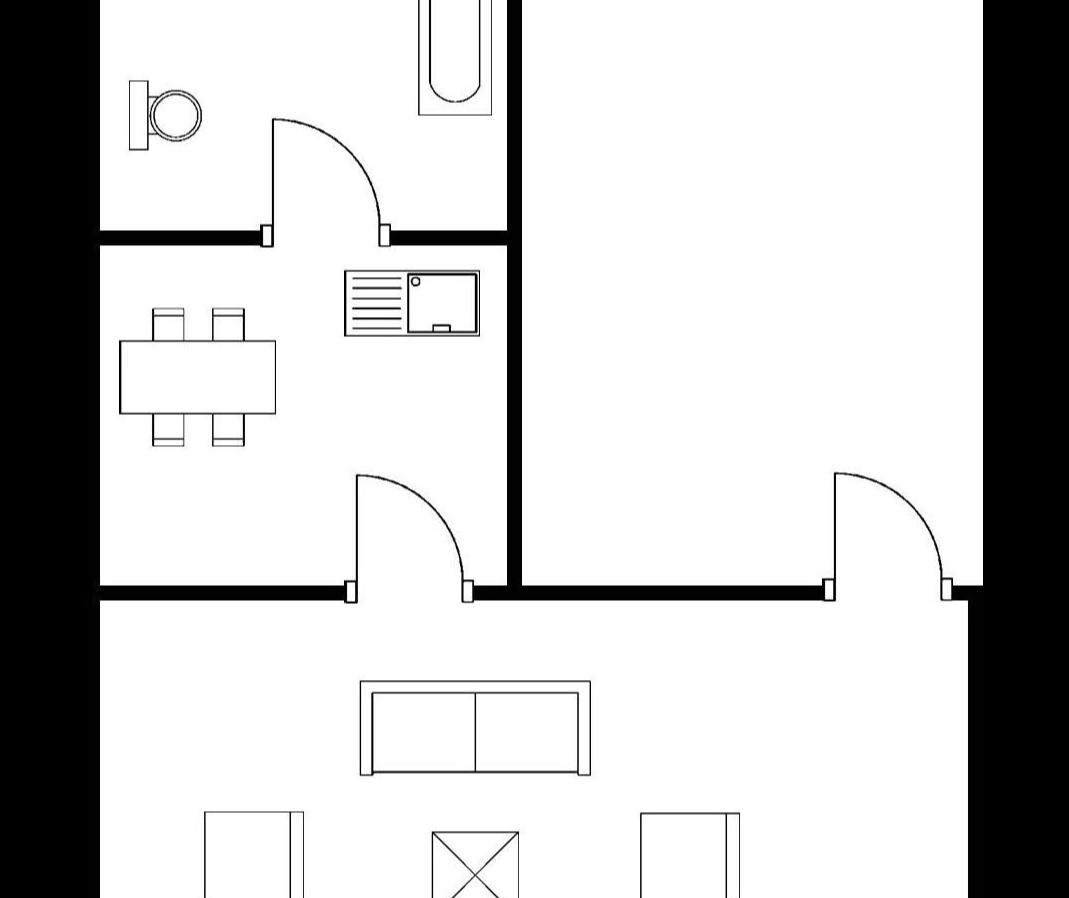dining_table: (112, 301, 284, 450)
sink: (338, 265, 490, 342), (124, 75, 206, 155)
sofa: (354, 676, 598, 782)
tub: (411, 0, 499, 121)
